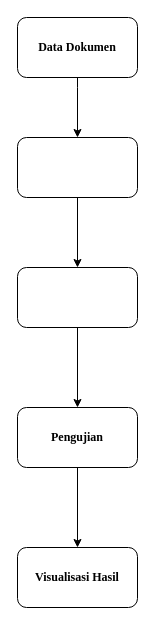
The diagram is 155 pixels wide and 625 high, and some of its shapes have lost their labels. The shapes that lost their labels are listed below. From the top down, each one's centre as x and y in pixels, then its label:
At (x=77, y=167): "Preprocessing".
At (x=77, y=297): "Penerapan Metode N-gram , Jaccard similarity".
